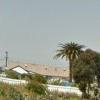Palm tree: (51, 32, 95, 85)
